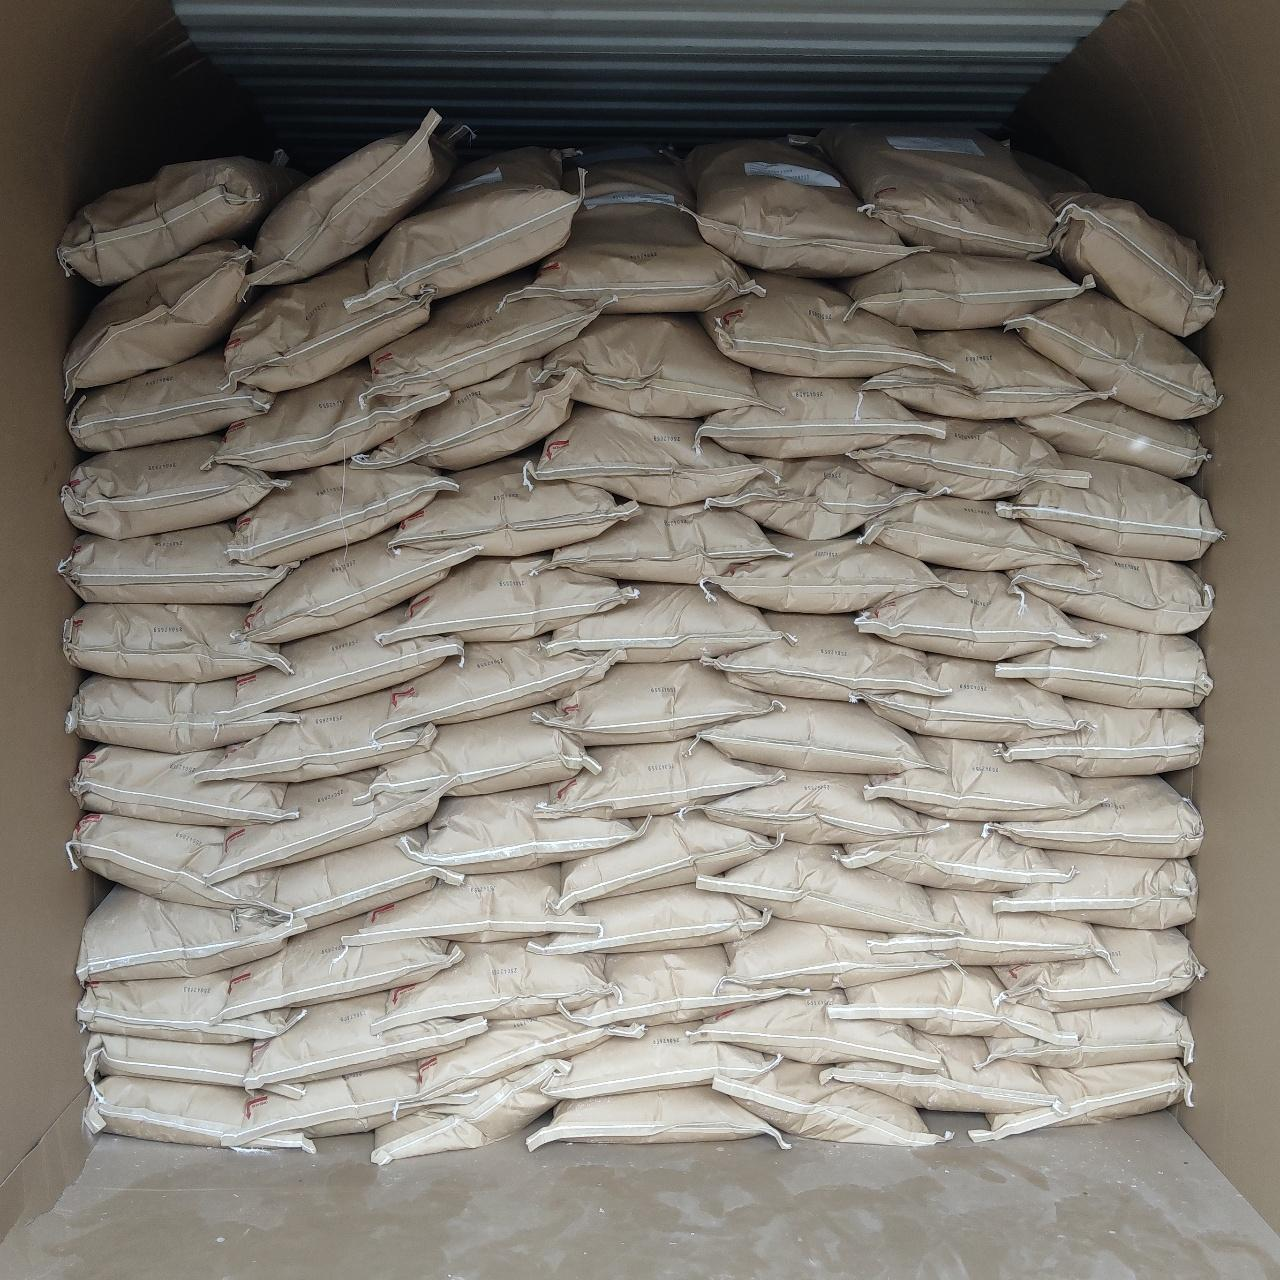sack: (502, 147, 765, 312), (254, 113, 470, 286), (354, 150, 583, 302), (818, 123, 1055, 259), (60, 156, 302, 286), (676, 142, 910, 275), (66, 240, 254, 390), (226, 256, 428, 390), (368, 275, 598, 392), (1008, 292, 1220, 416), (352, 358, 584, 469), (207, 772, 438, 884), (222, 912, 459, 1017), (392, 454, 636, 556), (231, 826, 462, 934), (215, 365, 444, 470), (244, 535, 472, 640), (700, 274, 940, 374), (1051, 196, 1223, 334), (232, 610, 459, 712), (377, 638, 618, 734), (232, 464, 454, 566), (700, 842, 940, 934), (527, 408, 762, 502), (1000, 458, 1220, 558), (195, 692, 436, 782), (556, 812, 778, 910), (408, 1016, 644, 1108), (64, 436, 282, 535), (856, 568, 1090, 660), (374, 940, 610, 1030), (862, 331, 1099, 418), (256, 994, 486, 1084), (372, 1058, 571, 1163), (544, 316, 754, 414), (67, 813, 278, 910), (706, 535, 966, 612), (402, 787, 644, 870), (70, 350, 270, 450), (388, 556, 629, 638), (704, 614, 942, 697), (370, 708, 595, 796), (702, 372, 942, 454), (866, 736, 1096, 821), (714, 1060, 944, 1144), (348, 866, 598, 942), (546, 584, 787, 662), (80, 888, 286, 980), (540, 662, 776, 742), (850, 418, 1085, 498), (996, 618, 1210, 706), (550, 504, 788, 583), (538, 740, 782, 816), (564, 946, 806, 1022), (697, 697, 937, 774), (858, 656, 1076, 740), (706, 458, 932, 538), (696, 770, 940, 844), (872, 890, 1107, 966), (60, 524, 286, 602), (72, 745, 297, 824), (840, 252, 1080, 326), (821, 1034, 1050, 1110), (694, 992, 930, 1064), (830, 966, 1060, 1039), (66, 604, 288, 678), (986, 778, 1201, 855), (996, 928, 1201, 1008), (68, 676, 288, 750), (976, 1062, 1190, 1138), (530, 886, 768, 954), (1010, 550, 1212, 629), (862, 498, 1084, 568), (88, 1080, 309, 1150), (554, 1024, 779, 1094), (527, 1088, 788, 1148), (726, 920, 954, 988), (842, 822, 1070, 890), (80, 971, 297, 1042), (1016, 400, 1208, 478), (1002, 700, 1201, 774), (996, 855, 1196, 926), (978, 1002, 1190, 1068), (246, 1064, 418, 1136), (88, 1034, 256, 1092)
